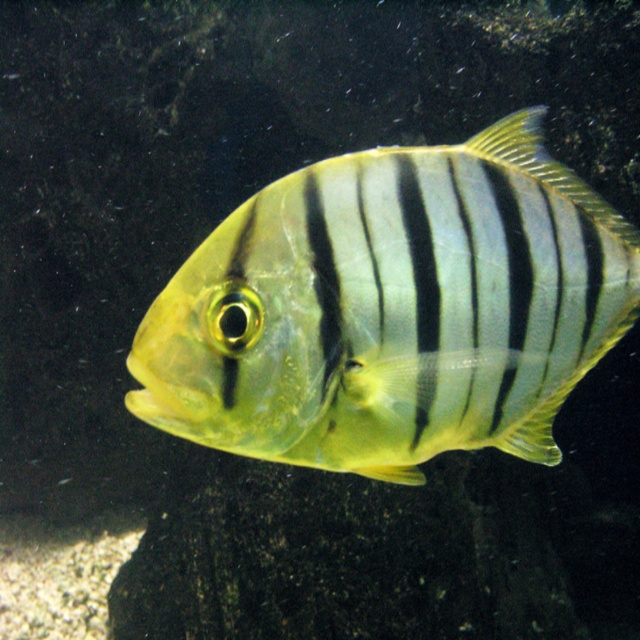Fish: (124, 104, 640, 487)
